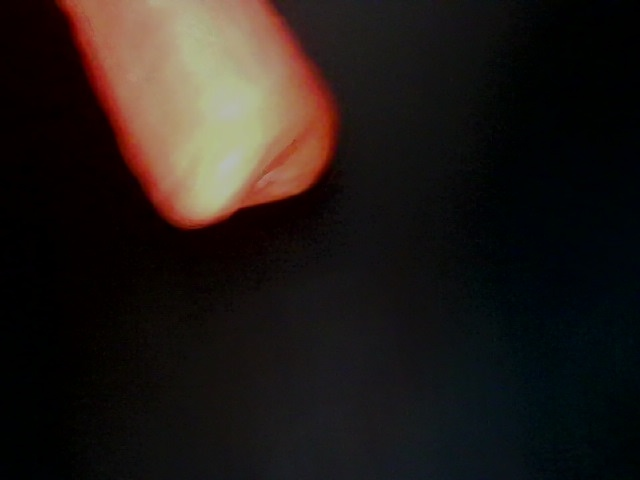CYLJ: (59, 1, 342, 238)
